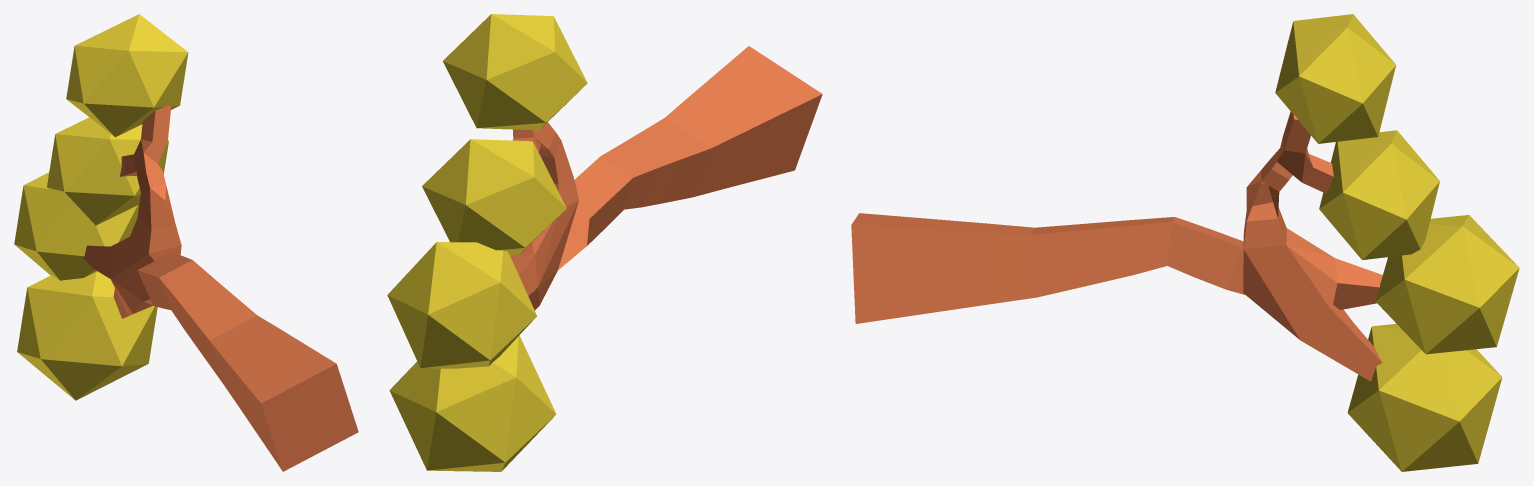
The model's file is arvoreFINAL.fbx.
The picture shows the model from 3 angles, left to right: view 1: azimuth 30°, elevation 25°; view 2: azimuth 150°, elevation 25°; view 3: azimuth 270°, elevation 25°; orthographic projection. The views are drawn at different scales.
Visible parts, largest first — view 1: Cube; view 2: Cube; view 3: Cube.
Boxes of the visible parts, left/top/right/bottom form: Cube: left=14, top=14, right=358, bottom=471; Cube: left=387, top=14, right=822, bottom=471; Cube: left=851, top=14, right=1519, bottom=471.
Size of the model in its own units: 146 by 399 by 536.
